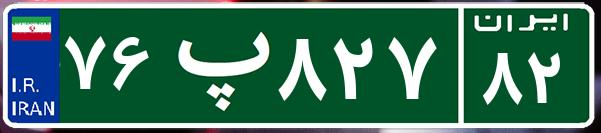2: (330, 28, 385, 110), (525, 38, 570, 115)
6: (110, 28, 158, 105)
7: (385, 28, 445, 110), (57, 26, 110, 107)
8: (273, 28, 330, 110), (475, 38, 525, 113)
پ: (158, 15, 273, 115)
